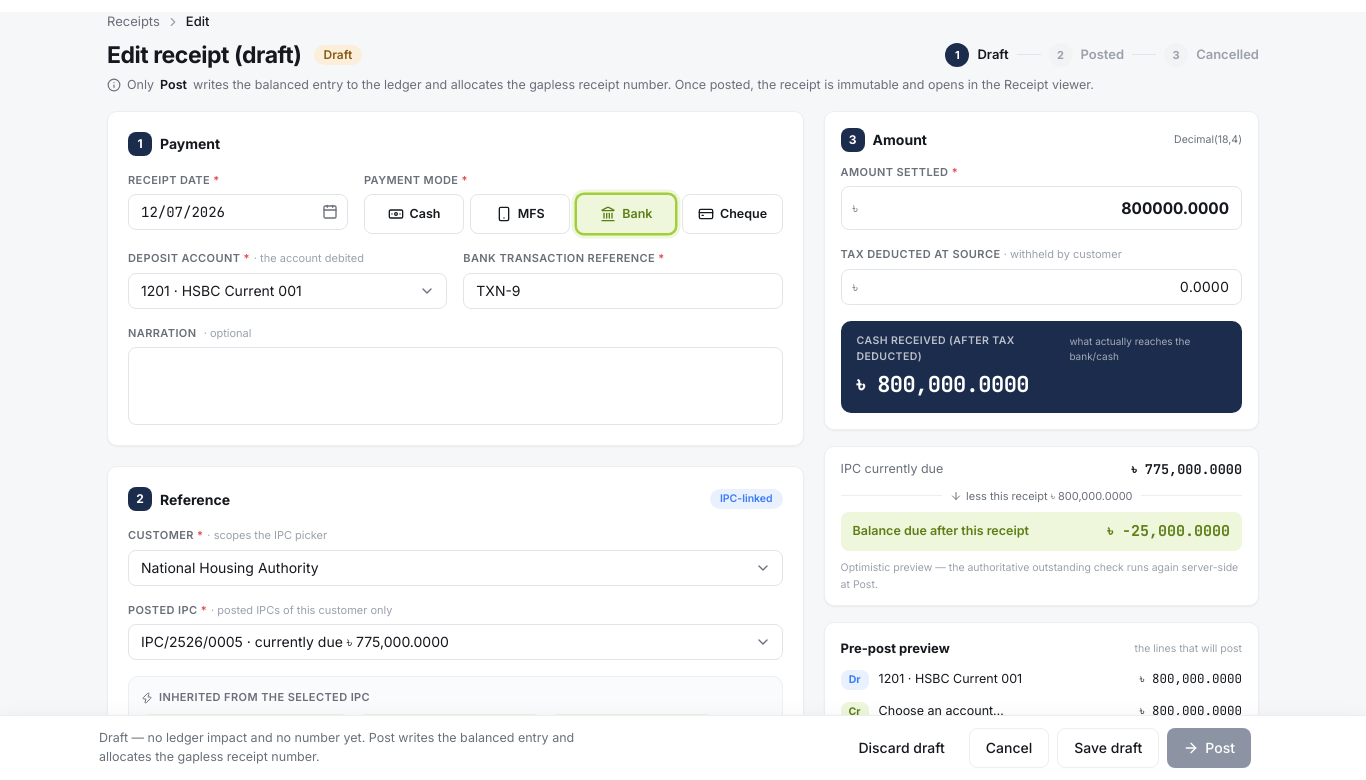
Test: Receipt editor — §A IPC-linked (spec §5/§7; FR-REC-002/017/018) › blocks over-application on the amount field (FR-REC-017)
This screenshot has width=1366, height=780.
Expected: the heading "Edit receipt (draft)" is shown, x1=107 y1=38 x2=302 y2=72
Expected: the element with test id "receipt-balance-due" is shown, x1=824 y1=446 x2=1259 y2=606
Click the button with test id "receipt-save" at (1108, 748), box x1=1057 y1=728 x2=1159 y2=768
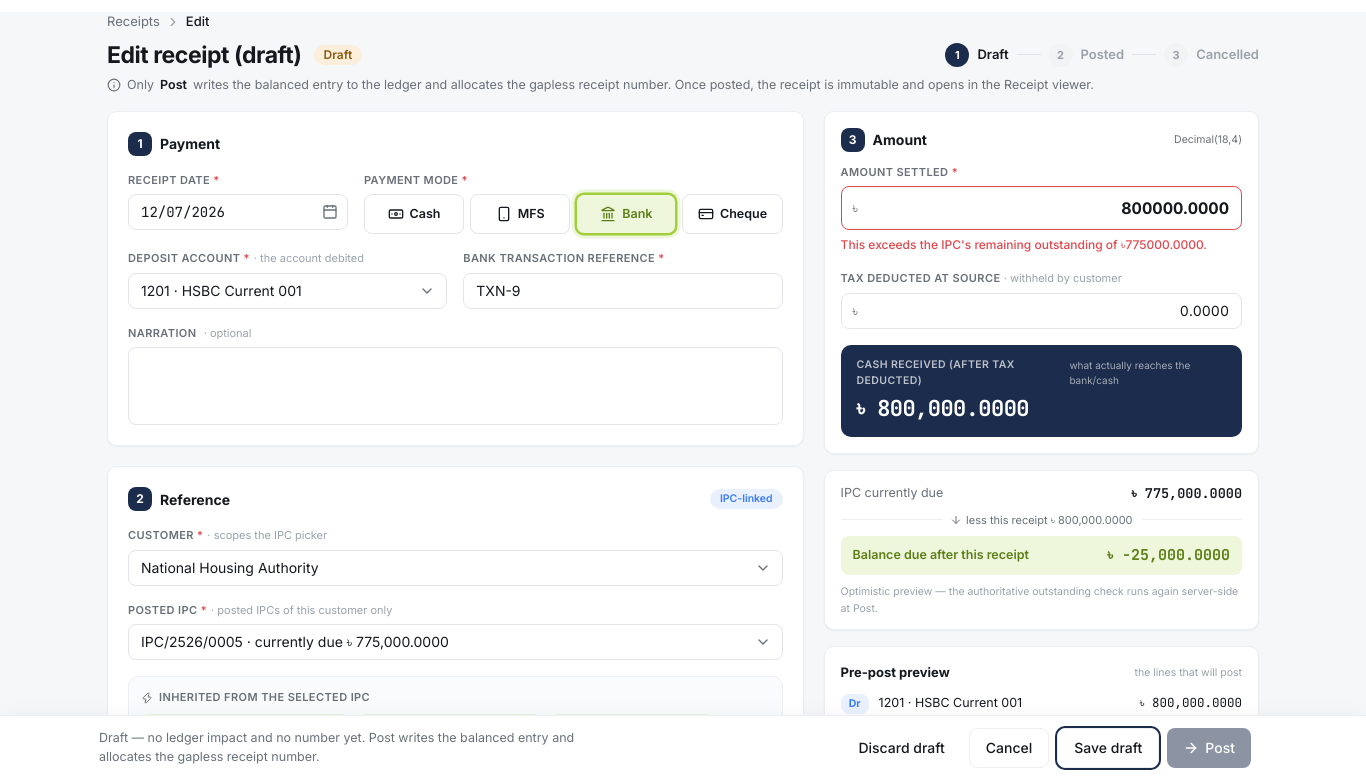
Expected: the button with test id "receipt-post" is disabled, x1=1167 y1=728 x2=1251 y2=768
Expected: the message with test id "receipt-amount-settled-err" shows "exceeds the IPC's remaining outstanding", x1=841 y1=237 x2=1207 y2=252
